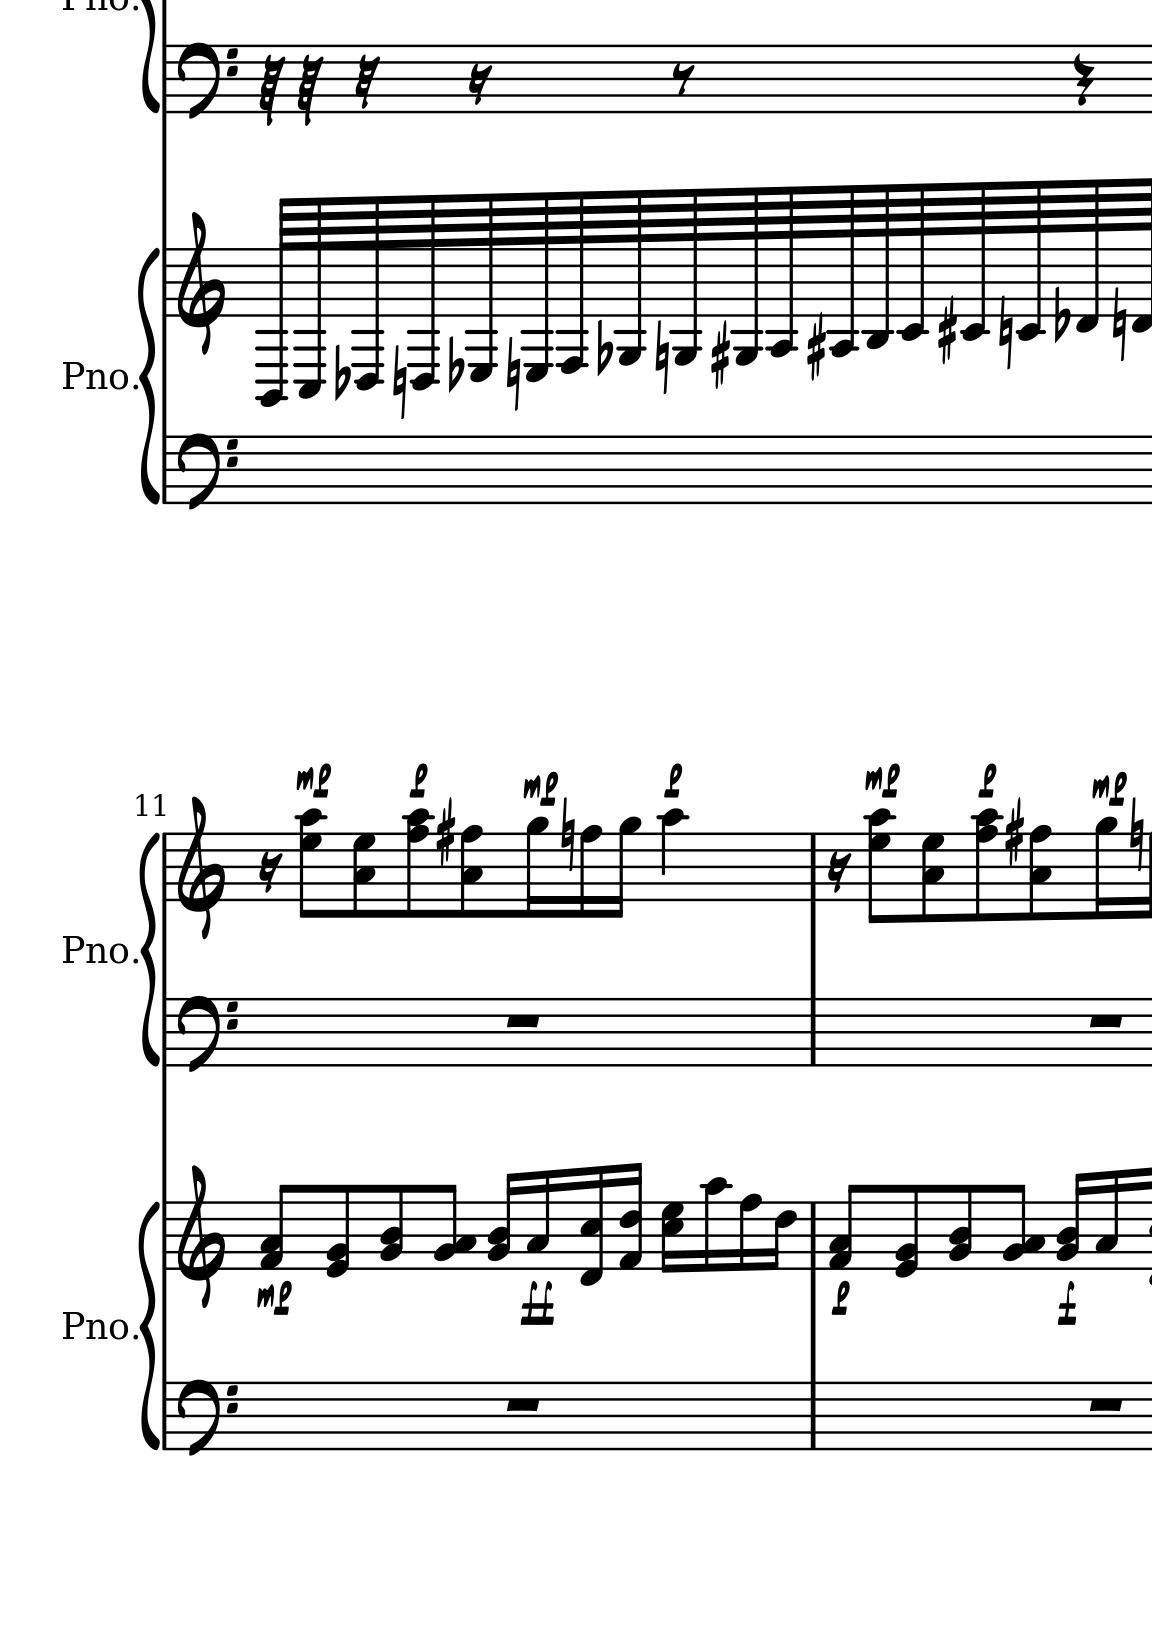1: (133, 790, 150, 821), (152, 790, 166, 820)
16_-1_5: (580, 1165, 606, 1286)
16_10: (702, 1176, 728, 1274)
16_1_6: (618, 1161, 645, 1274)
16_2_4: (487, 1171, 519, 1274), (1055, 1169, 1086, 1271)
16_3: (1093, 1169, 1120, 1274), (525, 1168, 550, 1271)
16_5_7: (660, 1200, 686, 1274)
16_6: (768, 1201, 797, 1271)
16_8: (578, 824, 602, 920), (737, 1193, 761, 1274)
16_9: (607, 815, 641, 921), (524, 815, 549, 920), (1093, 815, 1117, 922)
3: (137, 1194, 161, 1451)
4_10: (660, 808, 688, 903)
64_-1: (1076, 178, 1101, 334)
64_-10: (254, 196, 293, 407)
64_-2: (896, 181, 930, 341), (1016, 179, 1047, 341), (961, 181, 992, 340)
64_-3: (863, 184, 895, 349)
64_-4: (766, 184, 799, 358), (829, 183, 862, 356)
64_-5: (731, 184, 766, 366), (615, 189, 648, 366), (671, 187, 703, 366)
64_-6: (556, 191, 588, 375)
64_-7: (522, 191, 554, 384), (466, 193, 497, 384)
64_-8: (406, 193, 441, 393), (350, 194, 385, 393)
64_-9: (294, 197, 327, 399)
8_0_2: (325, 1184, 352, 1279), (894, 1183, 919, 1279)
8_1_3: (829, 1183, 866, 1271), (259, 1183, 297, 1270)
8_2_3: (435, 1183, 478, 1274), (1002, 1184, 1045, 1274)
8_2_4: (378, 1183, 405, 1274), (948, 1183, 974, 1274)
8_3_7: (352, 831, 377, 920), (923, 832, 946, 923)
8_3_8: (1029, 825, 1054, 923), (459, 822, 482, 921)
8_7_10: (863, 808, 893, 923)
8_7_12: (294, 808, 325, 918)
8_8_10: (400, 808, 435, 918), (972, 806, 1006, 921)
Brace: (140, 830, 162, 1073)
Fclef: (173, 431, 247, 515), (175, 1377, 239, 1459), (175, 993, 239, 1074), (175, 40, 237, 122)
Flat: (444, 336, 463, 396), (330, 345, 349, 404), (593, 320, 612, 379), (1052, 287, 1068, 345)
Gclef: (175, 211, 238, 361), (175, 794, 226, 940), (176, 1163, 224, 1308)
Natural: (1110, 287, 1130, 365), (1127, 795, 1145, 875), (996, 294, 1014, 371), (502, 336, 520, 412), (652, 319, 670, 395), (559, 795, 575, 874), (390, 344, 406, 420)
Pno: (61, 932, 127, 970), (61, 1308, 128, 1345), (59, 359, 127, 393)
Rests1: (502, 1009, 544, 1031), (1085, 1011, 1127, 1031), (1085, 1394, 1127, 1414), (502, 1394, 542, 1414)
Rests16: (256, 849, 282, 895), (827, 850, 852, 897), (466, 62, 491, 108)
Rests32: (352, 54, 378, 111)
Rests4: (1072, 52, 1093, 108)
Rests64: (256, 54, 287, 125), (295, 52, 325, 125)
Rests8: (670, 62, 694, 96)
Sharp: (1002, 798, 1025, 869), (434, 799, 455, 869), (805, 317, 827, 383), (938, 298, 958, 366), (709, 324, 729, 390)
Single_barline: (802, 834, 825, 901), (800, 998, 824, 1065), (802, 1382, 824, 1451), (803, 1203, 823, 1270), (157, 832, 175, 902), (158, 1203, 175, 1270), (158, 999, 175, 1064), (158, 249, 173, 317), (160, 46, 175, 111), (158, 1383, 173, 1447), (160, 437, 173, 502)
f: (1055, 1281, 1078, 1328)
ff: (517, 1279, 556, 1328)
mp: (863, 761, 904, 799), (294, 761, 334, 799), (254, 1279, 295, 1315), (1090, 771, 1130, 806), (522, 771, 560, 806)
p: (405, 761, 430, 800), (660, 761, 684, 800), (974, 761, 997, 800), (830, 1281, 853, 1318)
